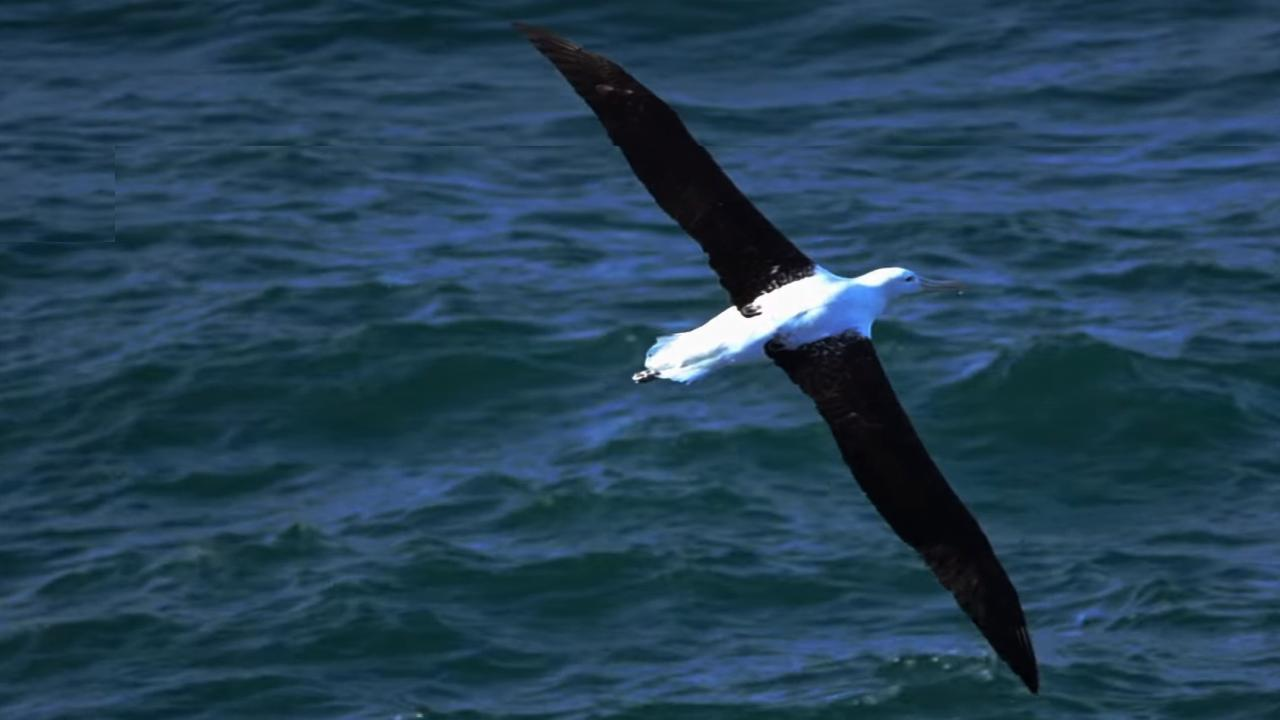Bird: (489, 14, 1054, 702)
